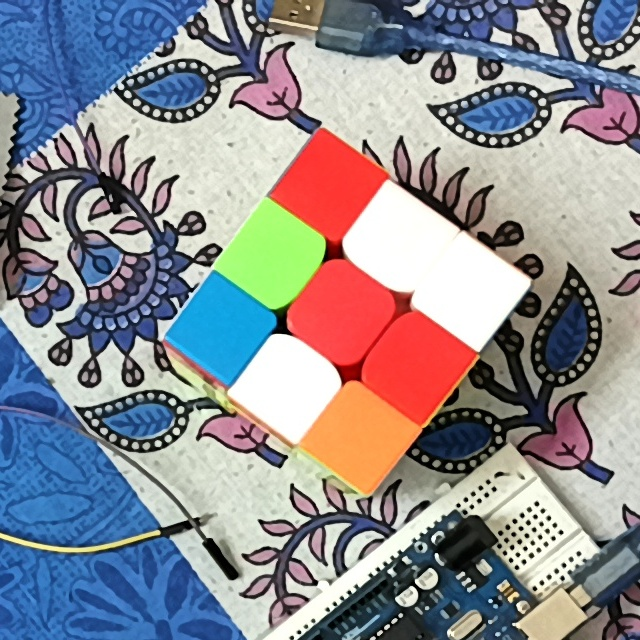tile: (381, 332, 450, 399), (256, 354, 316, 419), (311, 281, 372, 344), (333, 407, 395, 468), (192, 299, 251, 362), (242, 227, 303, 286), (372, 206, 428, 269), (302, 155, 359, 215), (444, 267, 495, 320)
